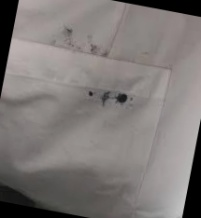ink: (81, 85, 134, 111), (59, 27, 105, 55)
